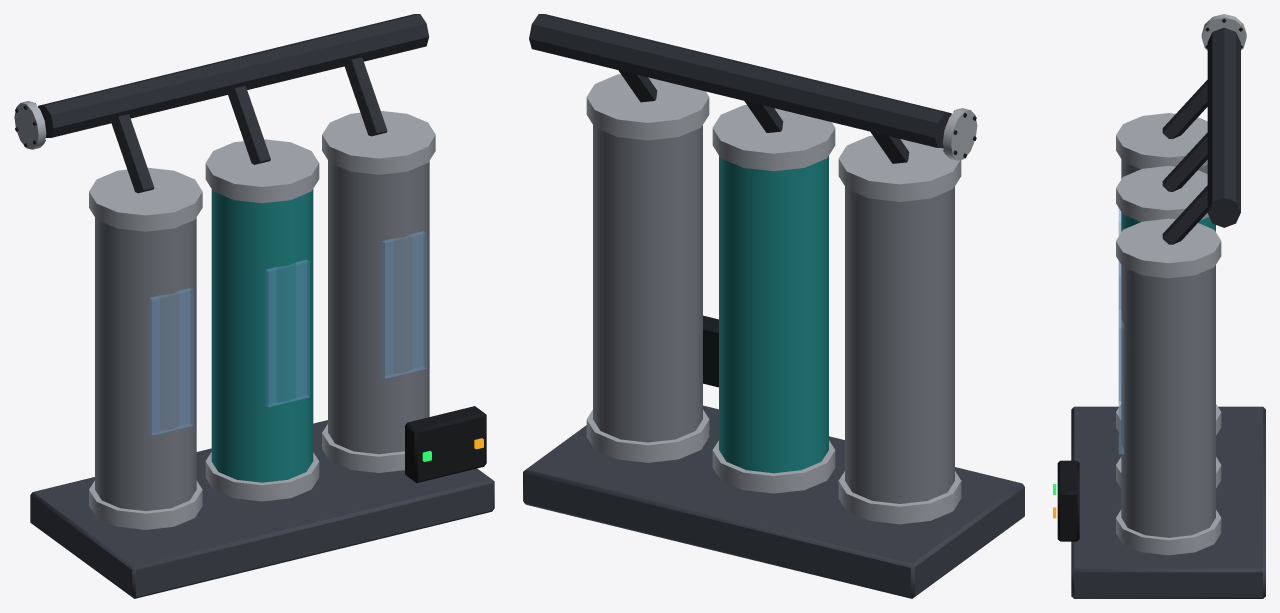
The model's file is tank_filtration_unit.glb.
3 views of the same model, side by side, from view 1: azimuth 30°, elevation 25°; view 2: azimuth 150°, elevation 25°; view 3: azimuth 270°, elevation 25° (orthographic). The views are drawn at different scales.
Parts seen in each view (by area): view 1: tank_filtration_unit; view 2: tank_filtration_unit; view 3: tank_filtration_unit.
Part boxes in pixels (x1=…): tank_filtration_unit: x1=14, y1=14, x2=494, y2=598; tank_filtration_unit: x1=523, y1=14, x2=1024, y2=598; tank_filtration_unit: x1=1053, y1=14, x2=1265, y2=598.
Bounding box in the file's own units: 1.53 × 1.63 × 0.766.
